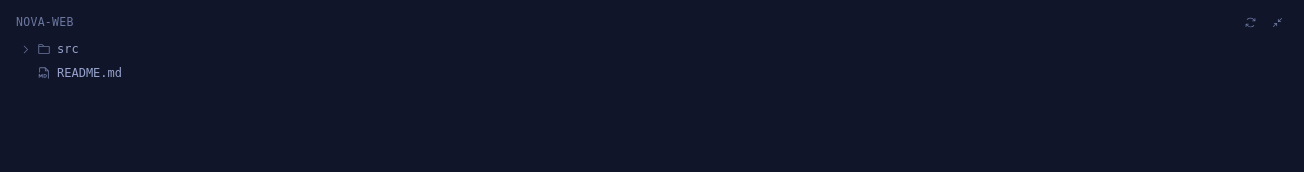
Test: ExplorerPanel — the tree › collapses again, and collapse-all closes everything
This screenshot has width=1304, height=172.
Expected: the text "README.md" is shown, [57, 64, 122, 82]
Click the button "src".
click(26, 49)  # box [12, 37, 1292, 61]
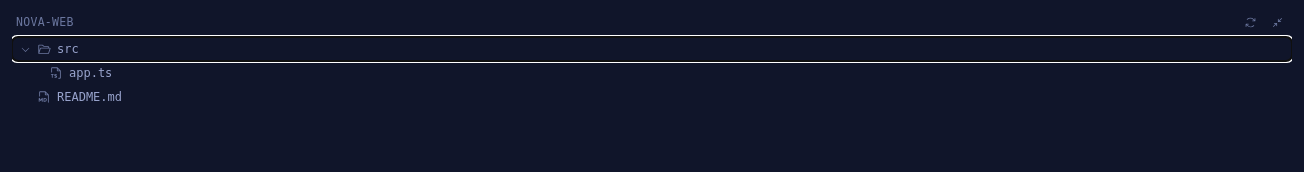
Now the text "app.ts" is shown, box [69, 64, 112, 82]
Click the button "src".
click(26, 49)  # box [12, 37, 1292, 61]
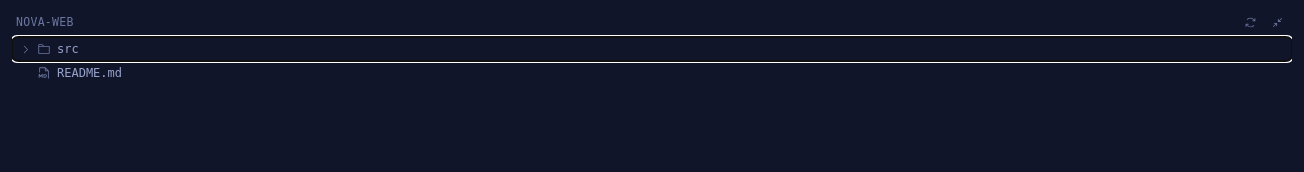
Now the button "app.ts" is gone
Click the button "src".
click(26, 49)  # box [12, 37, 1292, 61]
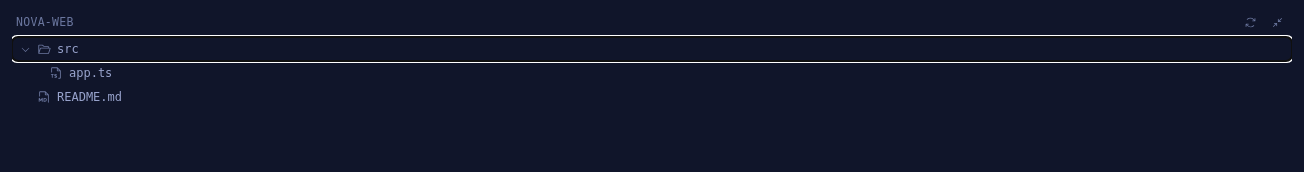
Now the text "app.ts" is shown, box [69, 64, 112, 82]
Click the button named "Collapse every folder".
click(1278, 22)  # box [1267, 12, 1288, 33]
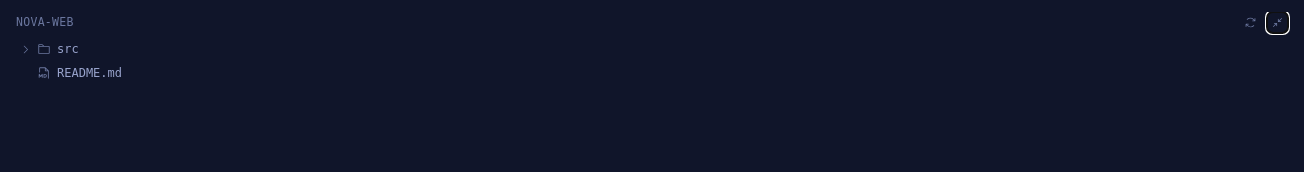
Now the button "app.ts" is gone
